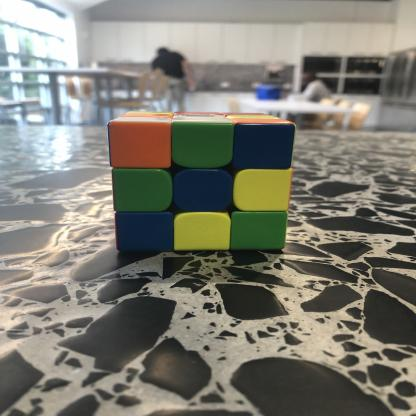UnsolvedCube: (105, 111, 299, 258)
